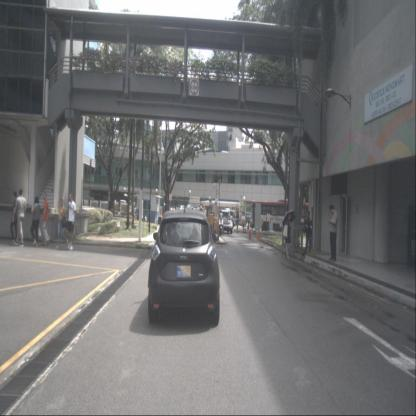cone: (248, 228, 252, 240), (256, 231, 260, 242)
